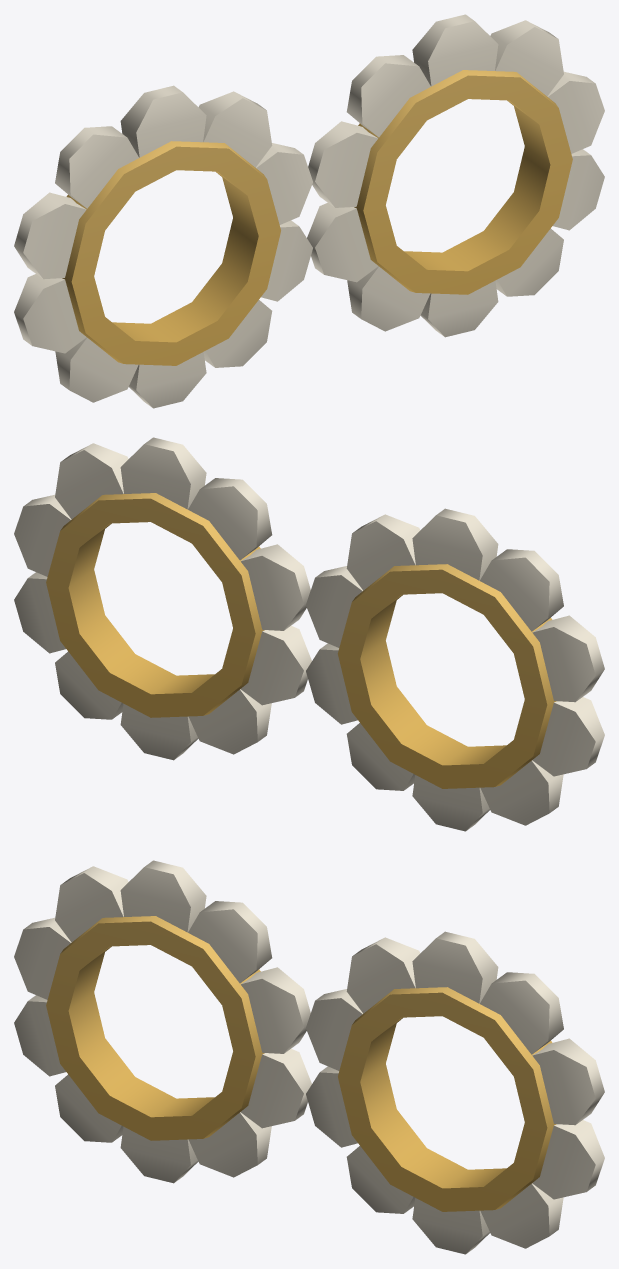
Rendered from Eyewear_5.fbx.
3 views of the same model, one above another, from view 1: azimuth 30°, elevation 25°; view 2: azimuth 150°, elevation 25°; view 3: azimuth 330°, elevation 25° (orthographic).
Visible parts, largest first — view 1: Eyewear_5; view 2: Eyewear_5; view 3: Eyewear_5.
Part boxes in pixels (bbox=[...]): Eyewear_5: bbox=[14, 14, 604, 408]; Eyewear_5: bbox=[14, 437, 604, 831]; Eyewear_5: bbox=[14, 860, 604, 1254].
Bounding box in the file's own units: 64.32 × 32.65 × 4.9.
